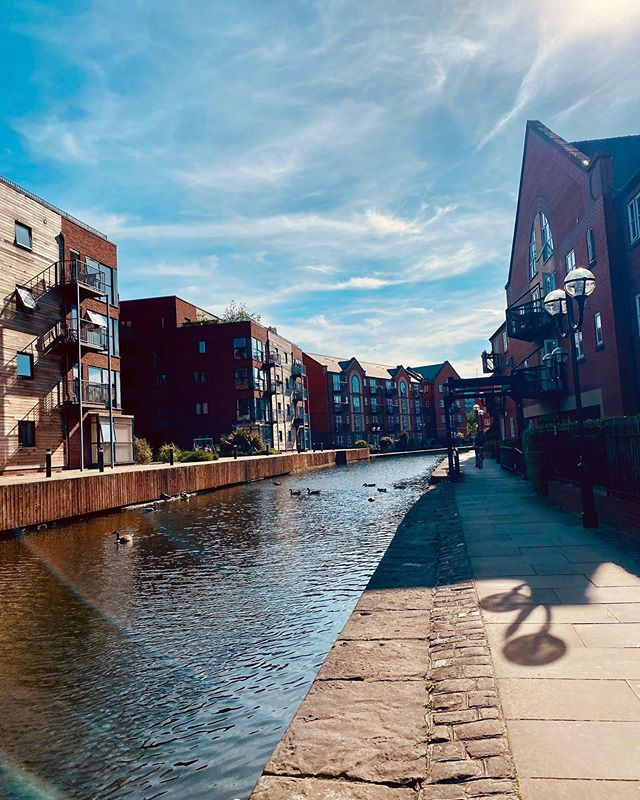animal: (105, 524, 143, 554), (304, 479, 327, 504), (280, 481, 308, 500)
building: (482, 119, 640, 508), (1, 178, 122, 502), (127, 293, 311, 460), (299, 344, 437, 448)
river: (1, 448, 464, 798)
sky: (16, 1, 640, 281)
